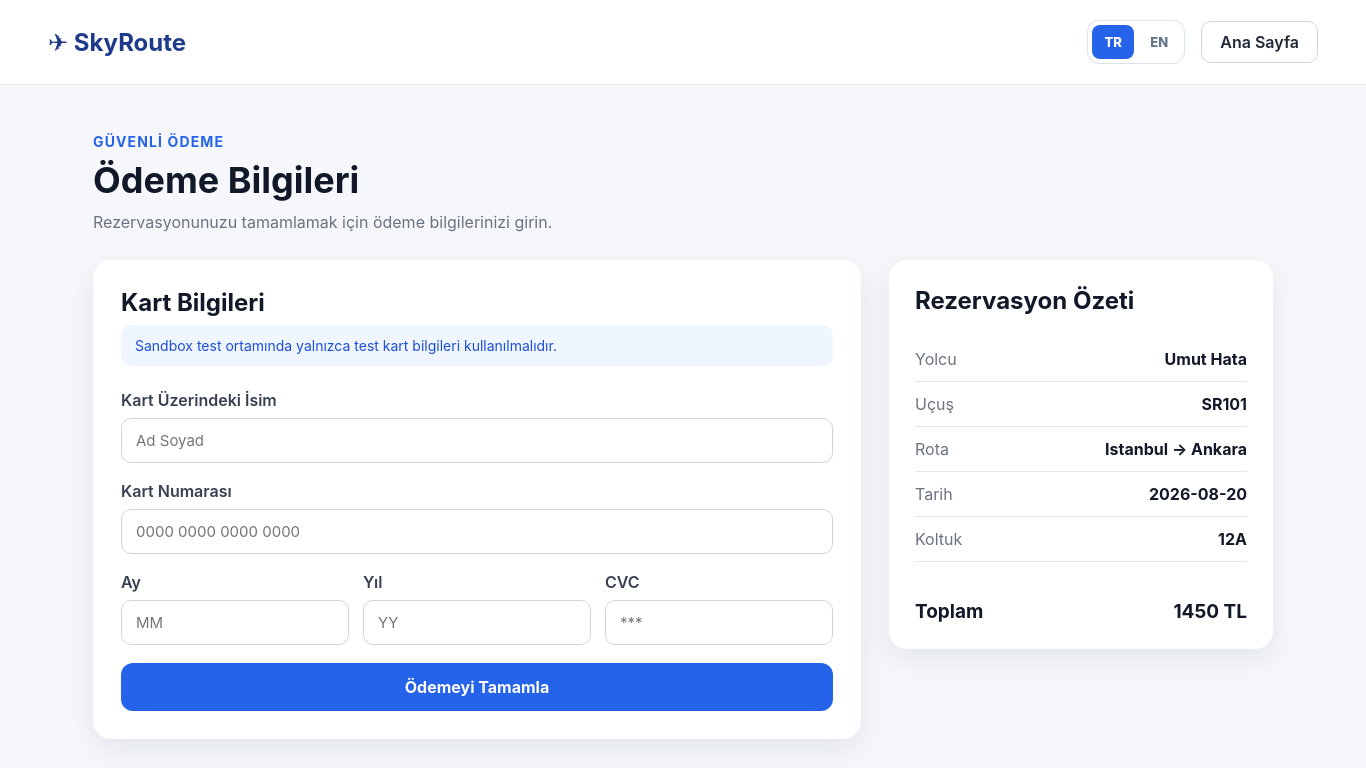
Scenario: payment frontend flow › changes the payment page to English
What coordinates should you click on to do the following:
click the button with aria-label "English"
I would click on:
 (1159, 42)
Its box is [1138,25,1180,59].
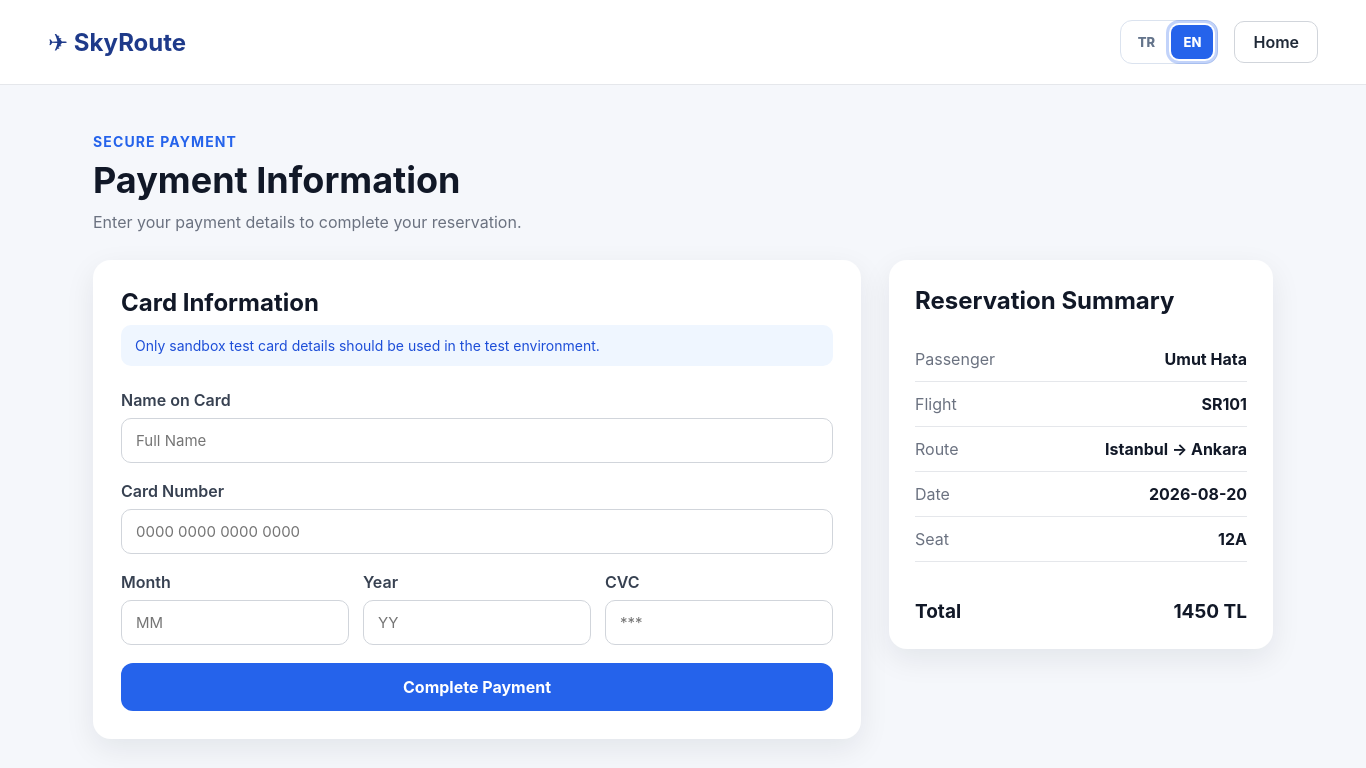
Result: the heading "Payment Information" is shown at [93,158,460,202]
Result: the button "Complete Payment" is shown at [121,663,833,711]
Result: the heading "Reservation Summary" is shown at [915,286,1174,315]
